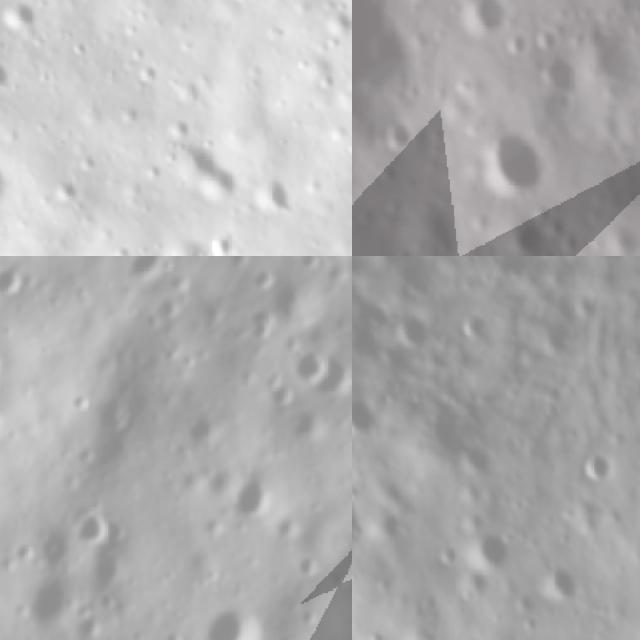crater: (352, 0, 414, 129), (171, 138, 249, 215), (483, 125, 551, 194), (24, 566, 84, 629), (226, 466, 286, 525), (197, 598, 268, 640), (245, 167, 294, 223), (538, 52, 583, 108), (284, 345, 332, 389), (72, 505, 116, 549), (380, 114, 421, 159), (90, 549, 133, 591), (471, 528, 514, 570), (462, 0, 509, 36), (0, 0, 44, 36), (542, 564, 581, 602), (320, 351, 352, 397), (117, 256, 180, 278), (237, 262, 275, 298), (295, 549, 330, 588), (509, 212, 540, 255), (198, 223, 238, 256), (576, 450, 618, 481), (195, 290, 231, 325), (156, 232, 208, 256), (0, 257, 29, 300), (240, 306, 280, 337), (457, 312, 488, 348), (352, 400, 377, 443), (152, 293, 190, 321), (0, 46, 21, 95), (495, 32, 531, 58), (431, 538, 457, 570), (530, 26, 554, 59), (52, 178, 82, 202), (66, 388, 92, 412), (0, 398, 14, 436), (221, 256, 250, 267), (361, 629, 390, 640)
